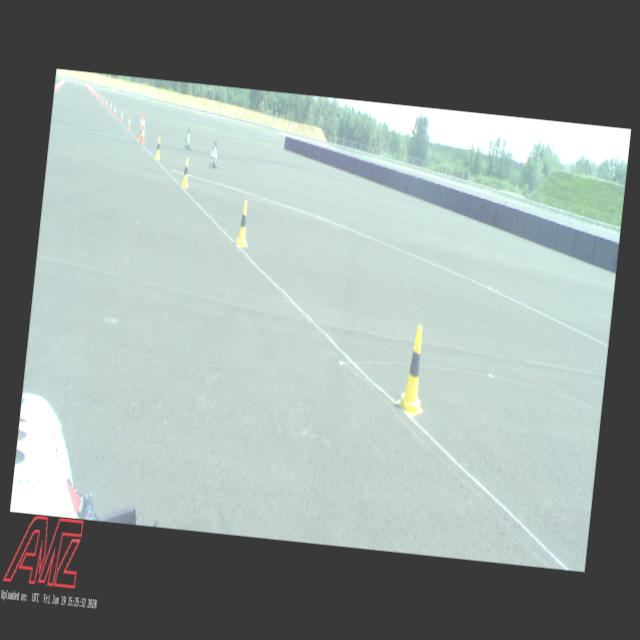large_orange_cone: (138, 114, 147, 142), (136, 112, 143, 139)
orange_cone: (125, 114, 132, 130), (120, 108, 124, 122), (112, 104, 116, 117), (108, 100, 112, 112), (104, 98, 108, 108)
yellow_cone: (396, 324, 432, 416), (235, 200, 252, 248), (180, 157, 191, 188), (154, 136, 162, 160), (137, 122, 142, 141)
